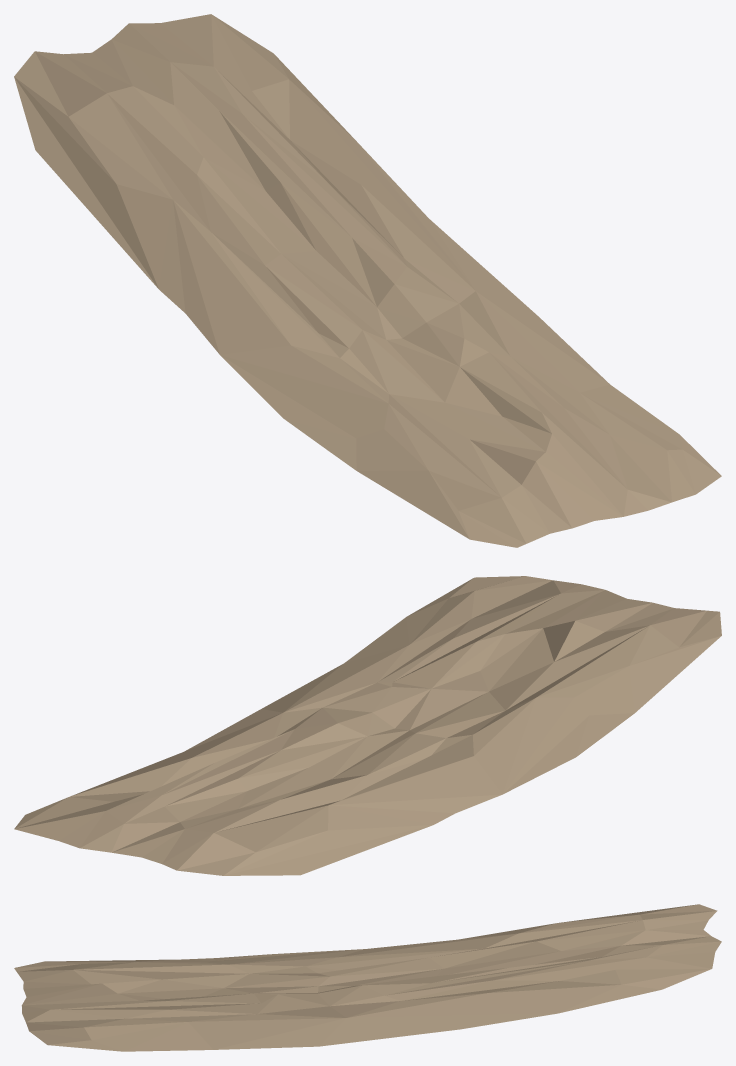
Rendered from SM_Env_DirtRoad_Slope_Up_01.glb.
The picture shows the model from 3 angles, top to bottom: view 1: azimuth 30°, elevation 25°; view 2: azimuth 150°, elevation 25°; view 3: azimuth 270°, elevation 25°; orthographic projection. The views are drawn at different scales.
Parts seen in each view (by area): view 1: SM_Env_DirtRoad_Slope_Up_01; view 2: SM_Env_DirtRoad_Slope_Up_01; view 3: SM_Env_DirtRoad_Slope_Up_01.
Part boxes in pixels (x1=…): SM_Env_DirtRoad_Slope_Up_01: x1=14, y1=14, x2=721, y2=547; SM_Env_DirtRoad_Slope_Up_01: x1=14, y1=576, x2=721, y2=875; SM_Env_DirtRoad_Slope_Up_01: x1=14, y1=904, x2=721, y2=1051.
Size of the model in its own units: 2.68 by 0.9817 by 8.38.
Materials: 1 (1 with a texture image).
